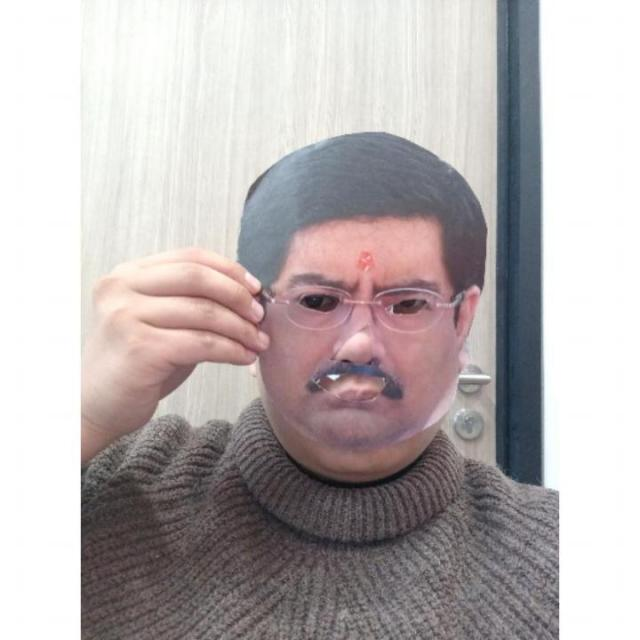mask: (238, 129, 491, 449)
